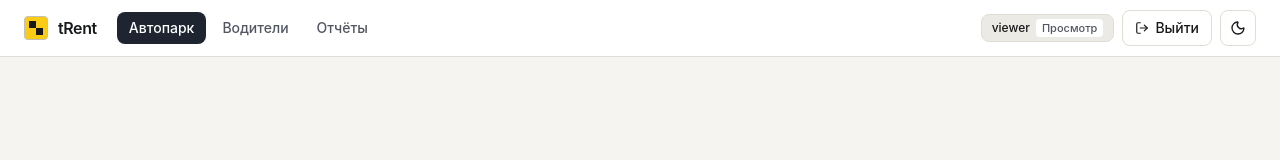
TopBar › shows Russian error feedback and re-enables logout button if logout fails
The width and height of the screenshot is (1280, 160).
Click the button "Выйти": [1167, 28] box [1122, 10, 1212, 46]
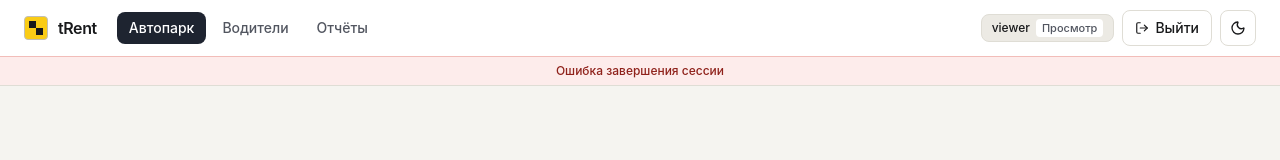
Result: the message reads "Ошибка завершения сессии" at [556, 63, 724, 78]
Click the button "Выйти": [1167, 28] box [1122, 10, 1212, 46]
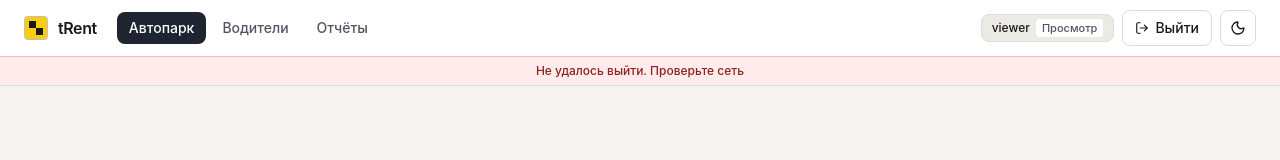
Result: the message shows "Не удалось выйти" at [536, 63, 744, 78]
